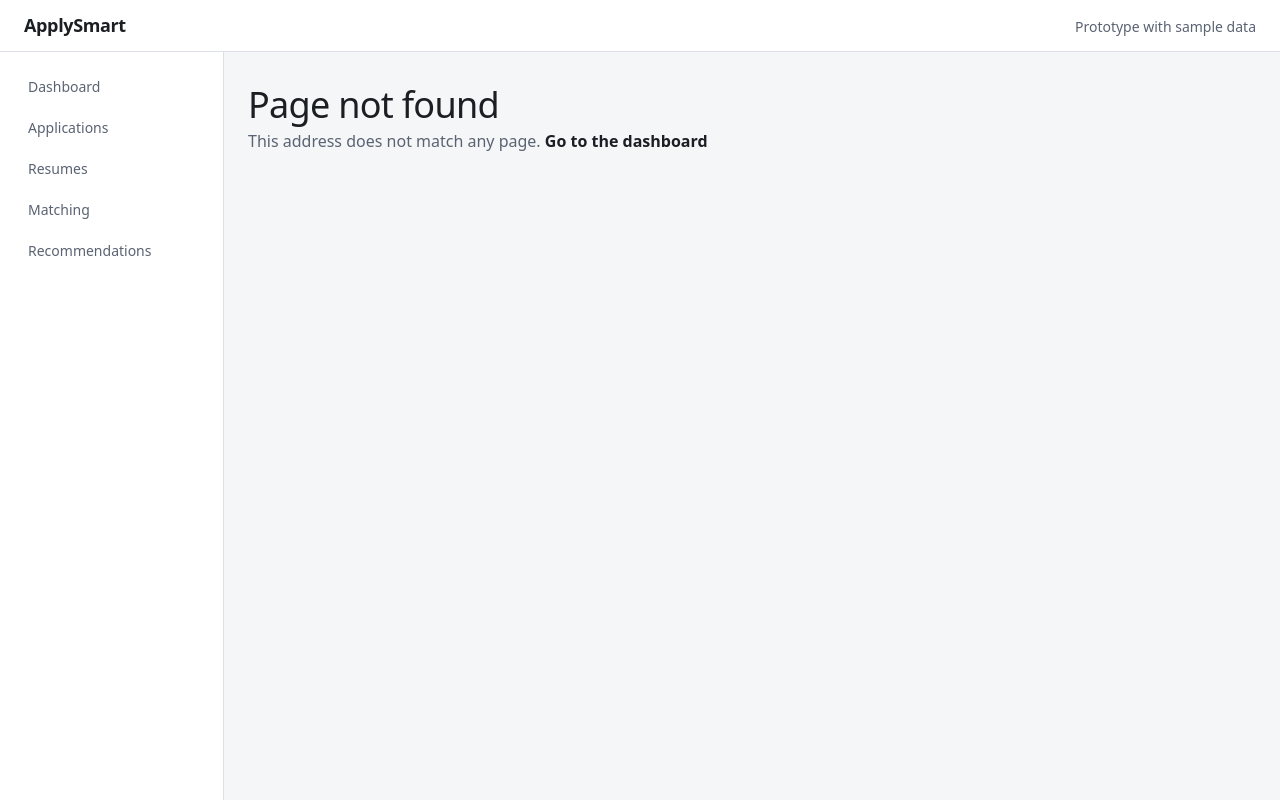
it: an unknown address shows page not found and links back to the dashboard
This screenshot has width=1280, height=800.
Expected: the heading "Page not found" is shown, [248,80,499,129]
Step 1. Click the link "Go to the dashboard" → (626, 141), box [545,130,708,152]
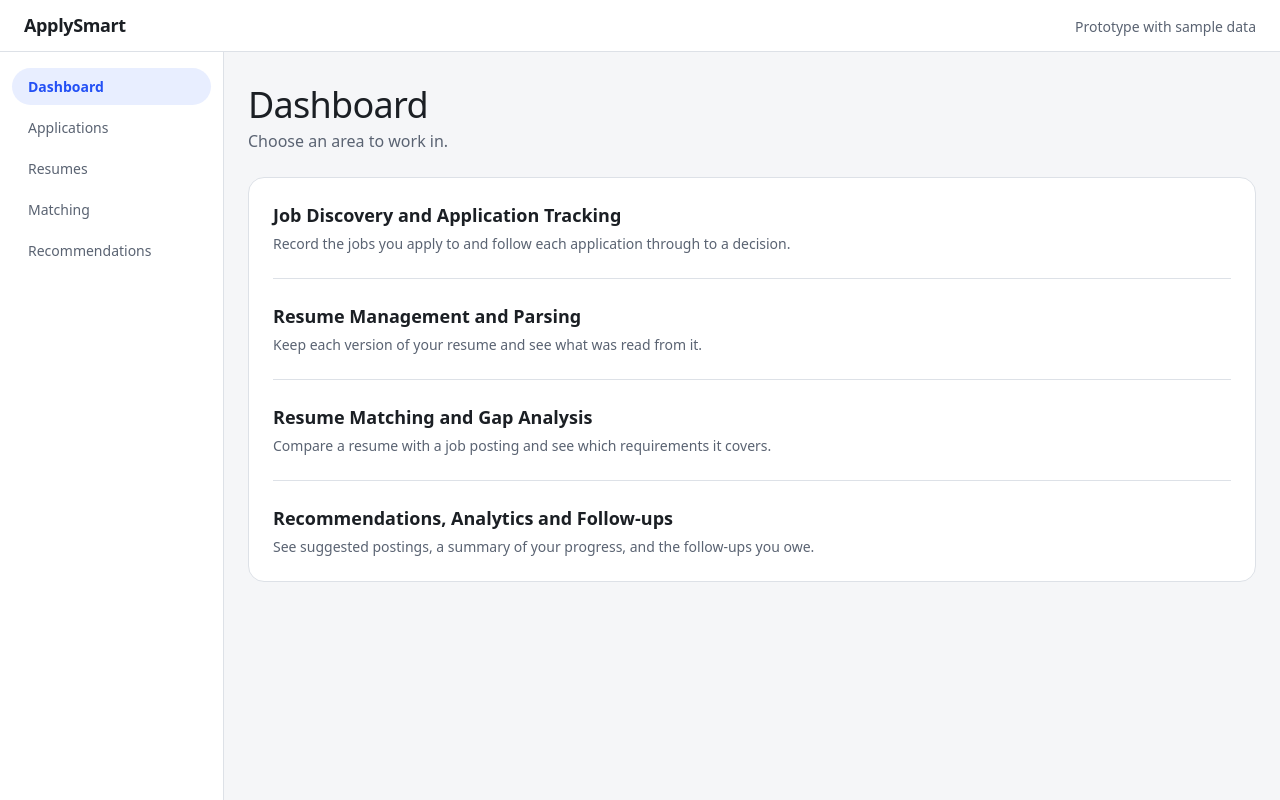
Expected: the heading "Dashboard" is shown, [248,84,448,125]
